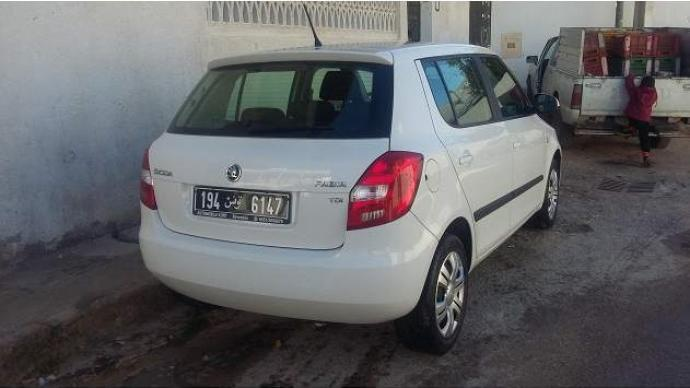LP: (192, 186, 291, 222)
